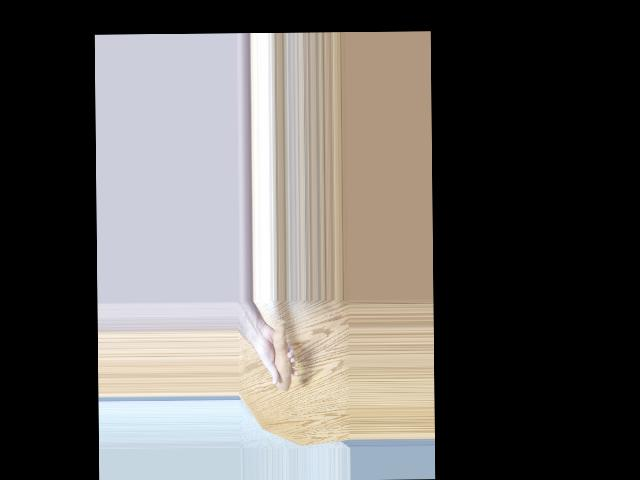sweet_potato: (264, 317, 293, 397)
